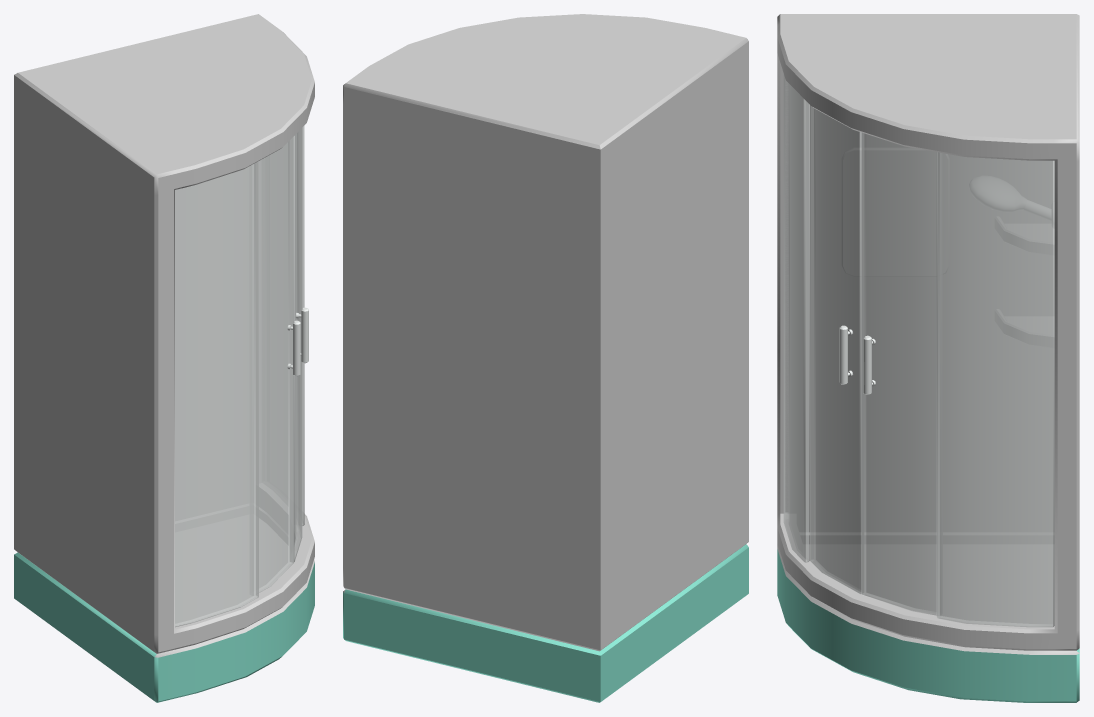
Rendered from Shower.glb.
3 renders of one model, left to right at view 1: azimuth 30°, elevation 25°; view 2: azimuth 150°, elevation 25°; view 3: azimuth 270°, elevation 25°, orthographic. The views are drawn at different scales.
Parts seen in each view (by area): view 1: Shower, Shower_door; view 2: Shower; view 3: Shower, Shower_door.
Boxes of the visible parts, bbox=[...] form: Shower: bbox=[14, 14, 314, 702]; Shower_door: bbox=[175, 125, 308, 627]; Shower: bbox=[343, 14, 748, 702]; Shower: bbox=[777, 14, 1079, 702]; Shower_door: bbox=[783, 74, 1054, 627].
Size of the model in its own units: 0.7451 by 1.53 by 0.7451.
Materials: 5 (2 with a texture image).
